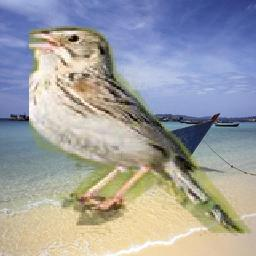Sparrow: (30, 26, 253, 236)
